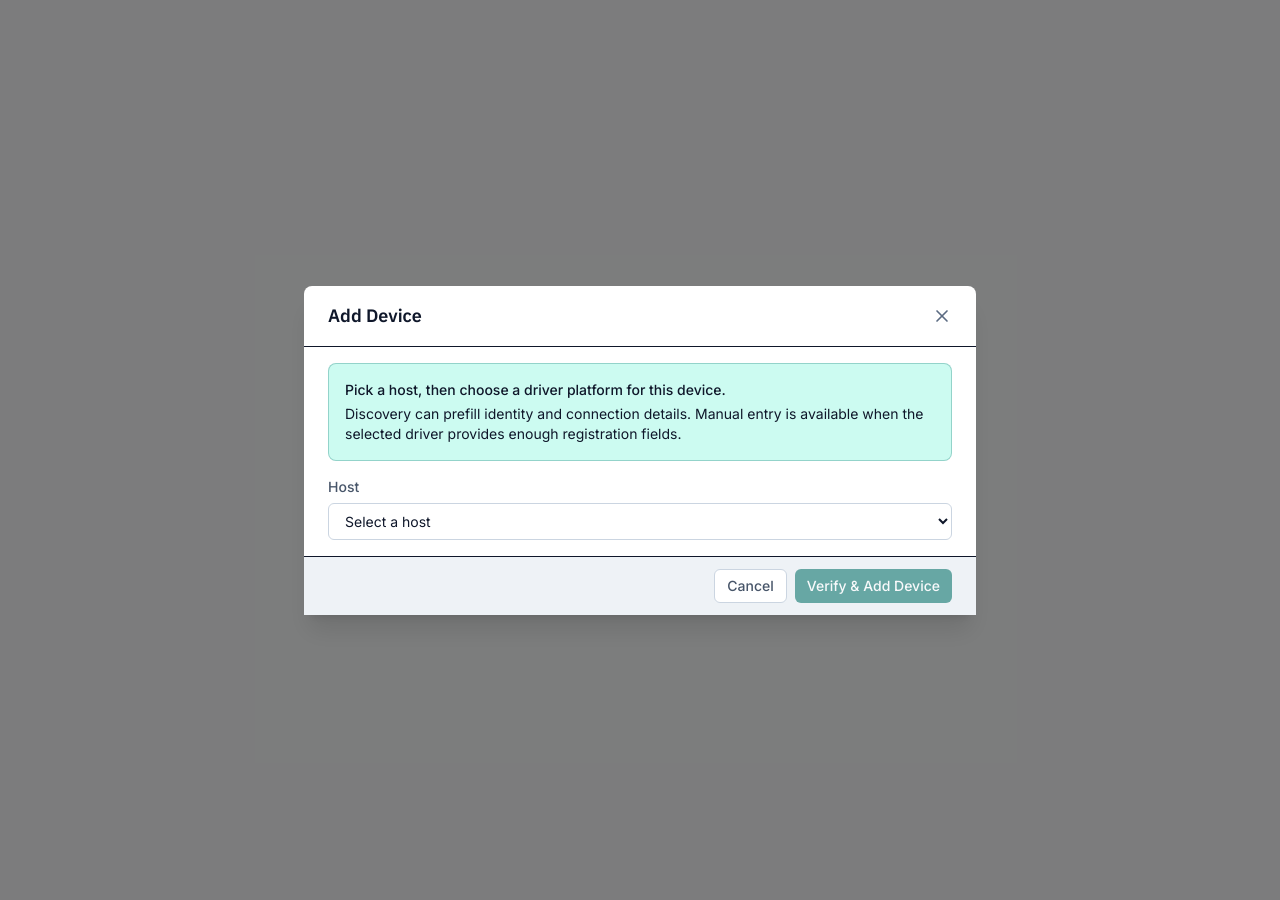
Test case: AddDeviceModal manual driver registration › shows driver-pack warning instead of platform fields when no packs are enabled
This screenshot has width=1280, height=900.
Select "Host 1" in the dropdown labelled "Host": [640, 521] box [328,502,952,540]
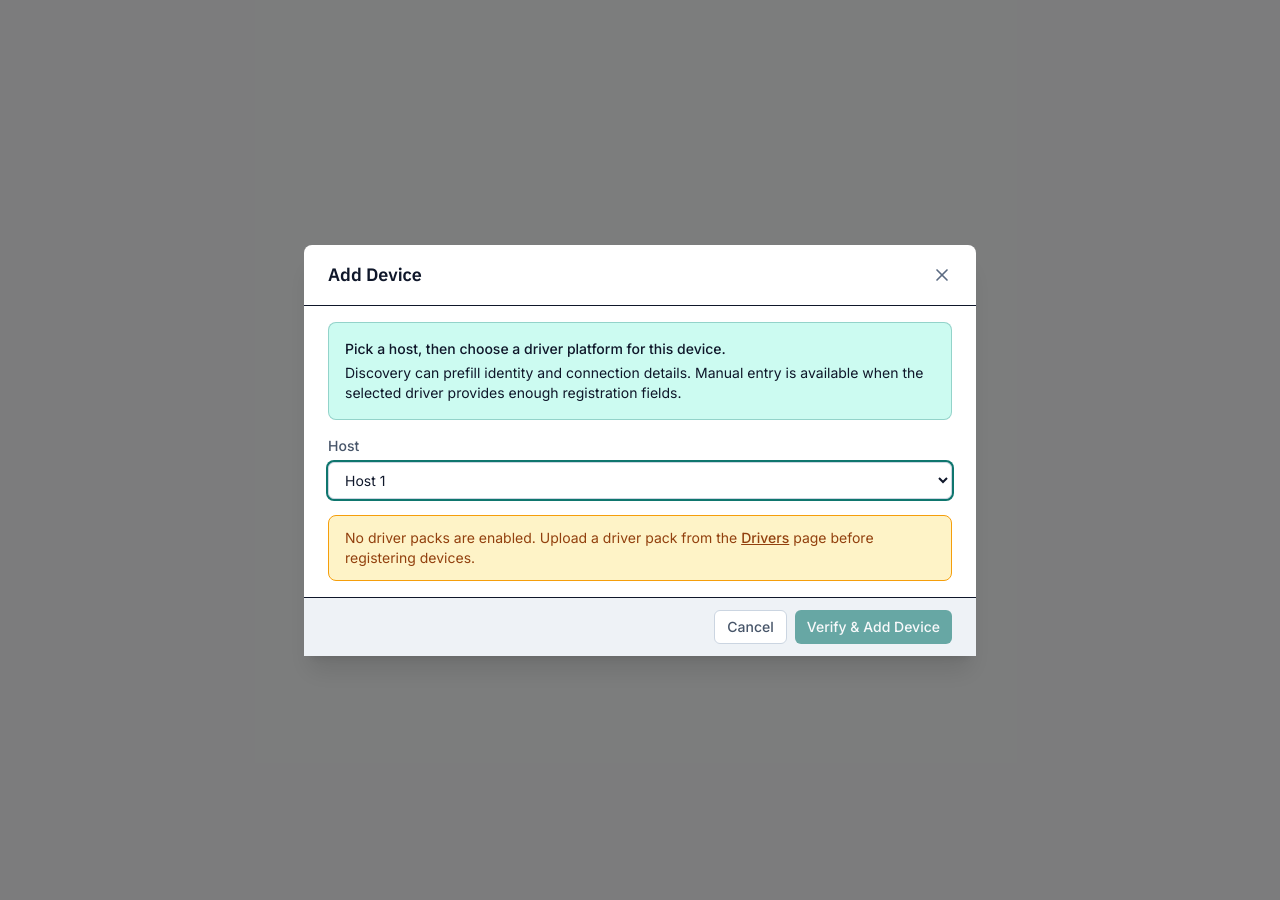
expect the text "No driver packs are enabled" is shown: met, box [345,528,737,546]
